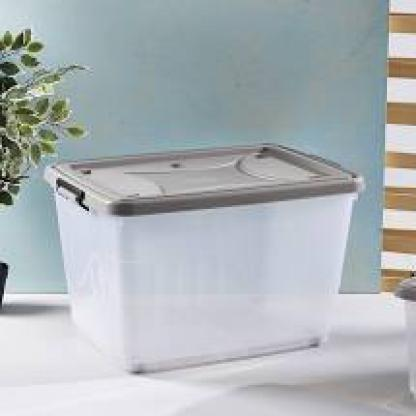plastic_box: (27, 132, 372, 385)
